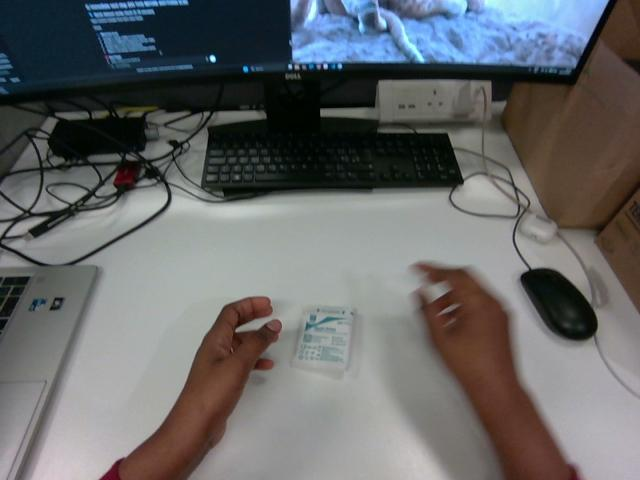gauze: (292, 307, 357, 378)
